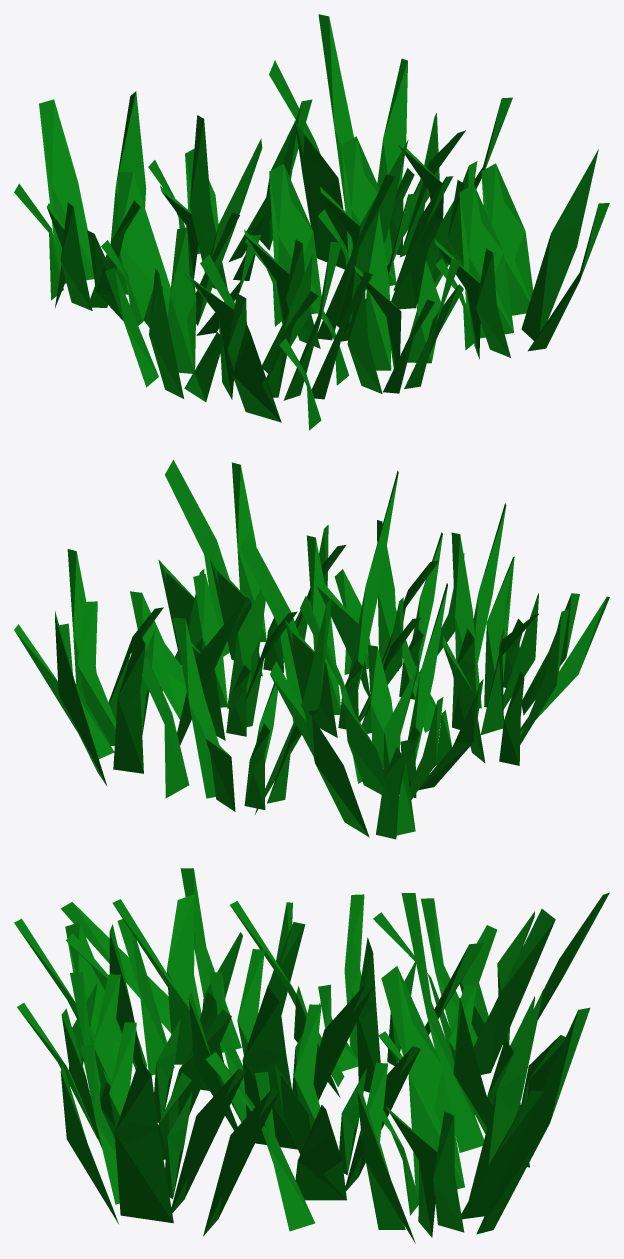
The model's file is grassmidpoly.glb.
3 renders of one model, top to bottom at view 1: azimuth 30°, elevation 25°; view 2: azimuth 150°, elevation 25°; view 3: azimuth 270°, elevation 25°, orthographic. The views are drawn at different scales.
Parts seen in each view (by area): view 1: Blade2.007; view 2: Blade2.007; view 3: Blade2.007.
Part boxes in pixels (left/top/right/bottom): Blade2.007: left=14, top=14, right=609, bottom=430; Blade2.007: left=14, top=459, right=609, bottom=839; Blade2.007: left=14, top=868, right=609, bottom=1243.
Bounding box in the file's own units: 21.26 × 10.74 × 22.37.
